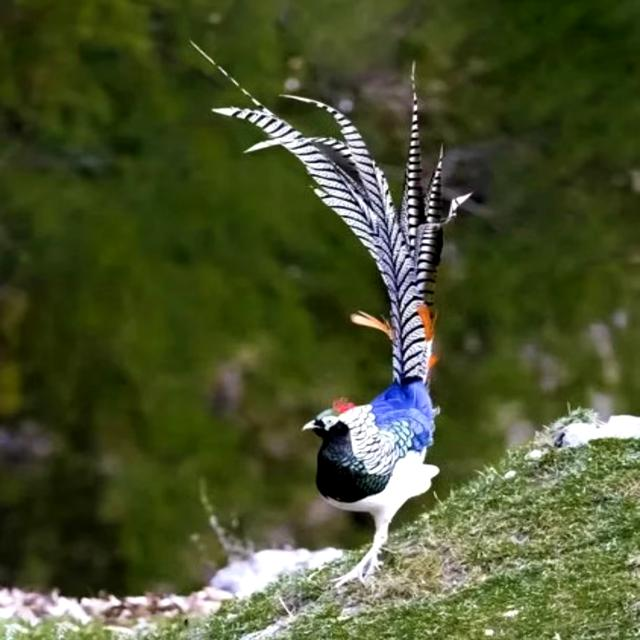Chrysolophus amherstiae: (215, 69, 470, 381)
